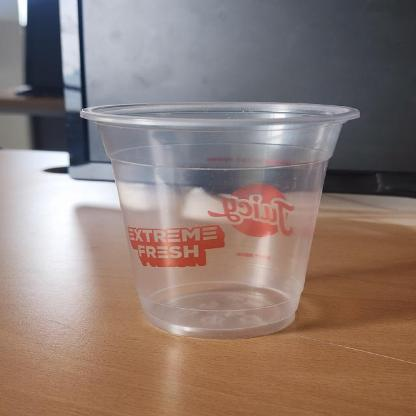Plastic Cup: (79, 102, 361, 338)
